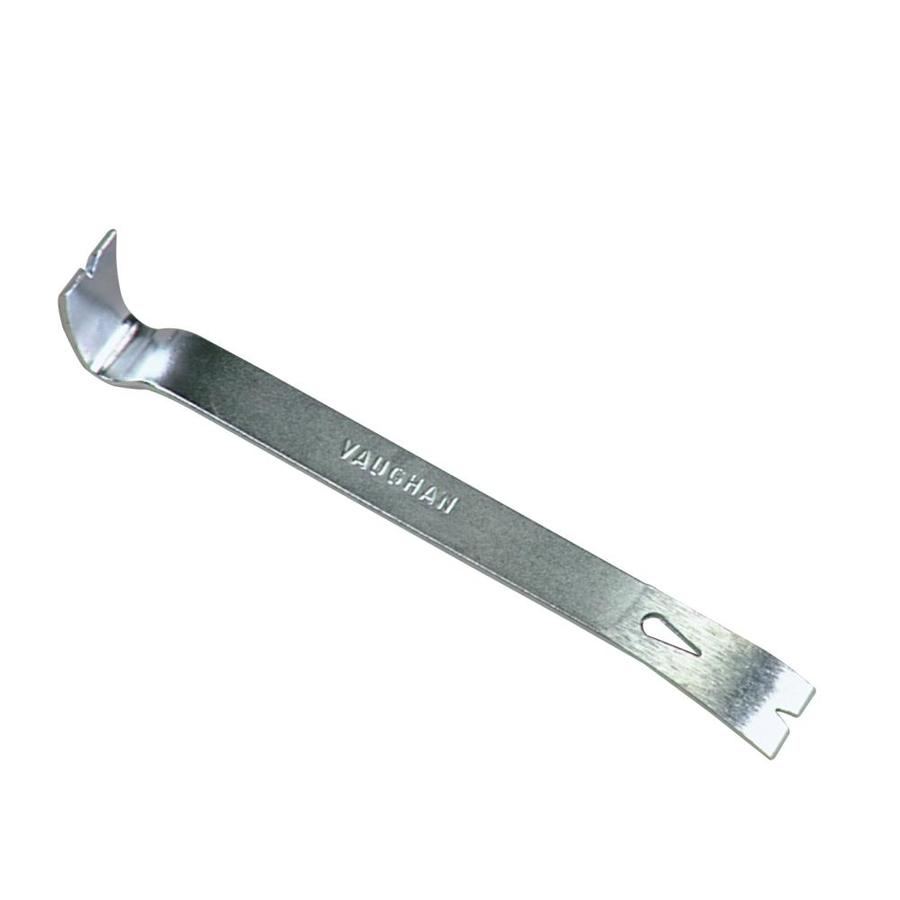crowbar: (36, 206, 843, 771)
